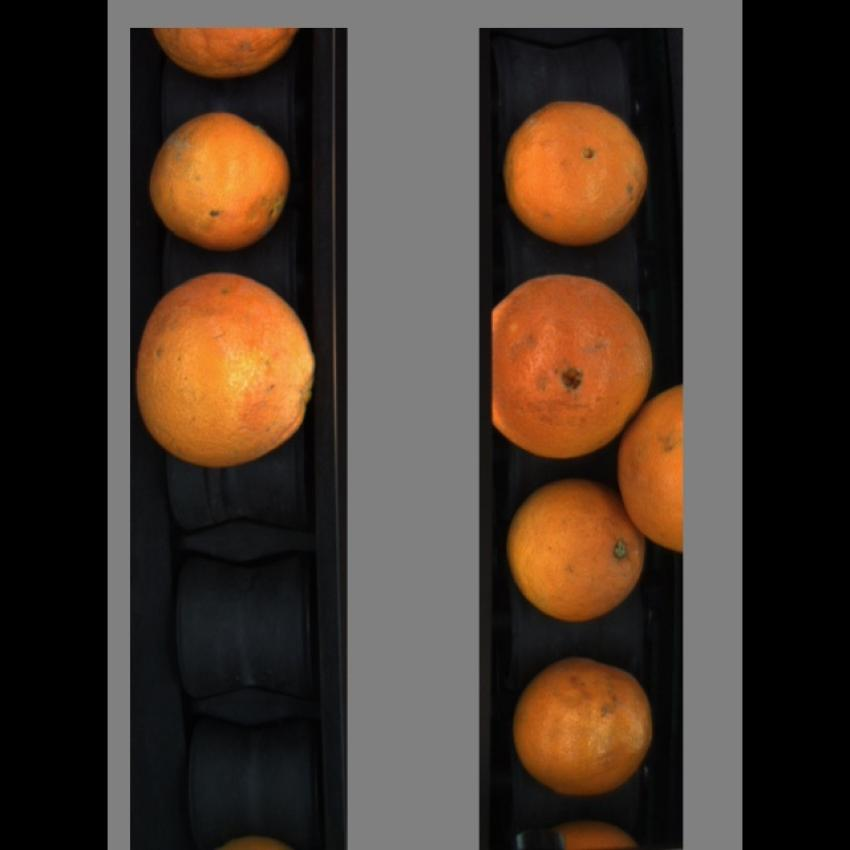Buen estado: (622, 371, 682, 564)
Mal estado: (136, 268, 318, 476), (489, 270, 658, 466), (510, 643, 674, 806), (496, 96, 654, 248), (148, 106, 298, 262), (502, 473, 650, 627), (151, 30, 310, 86)
